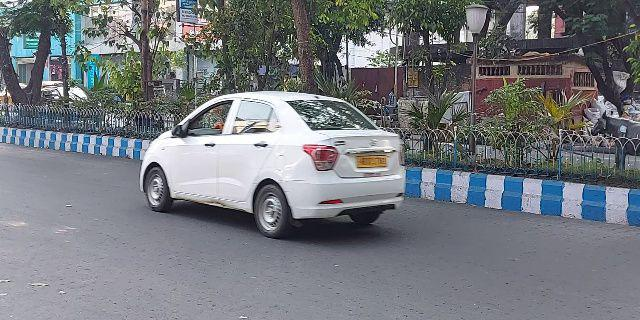Car: (138, 93, 409, 242)
